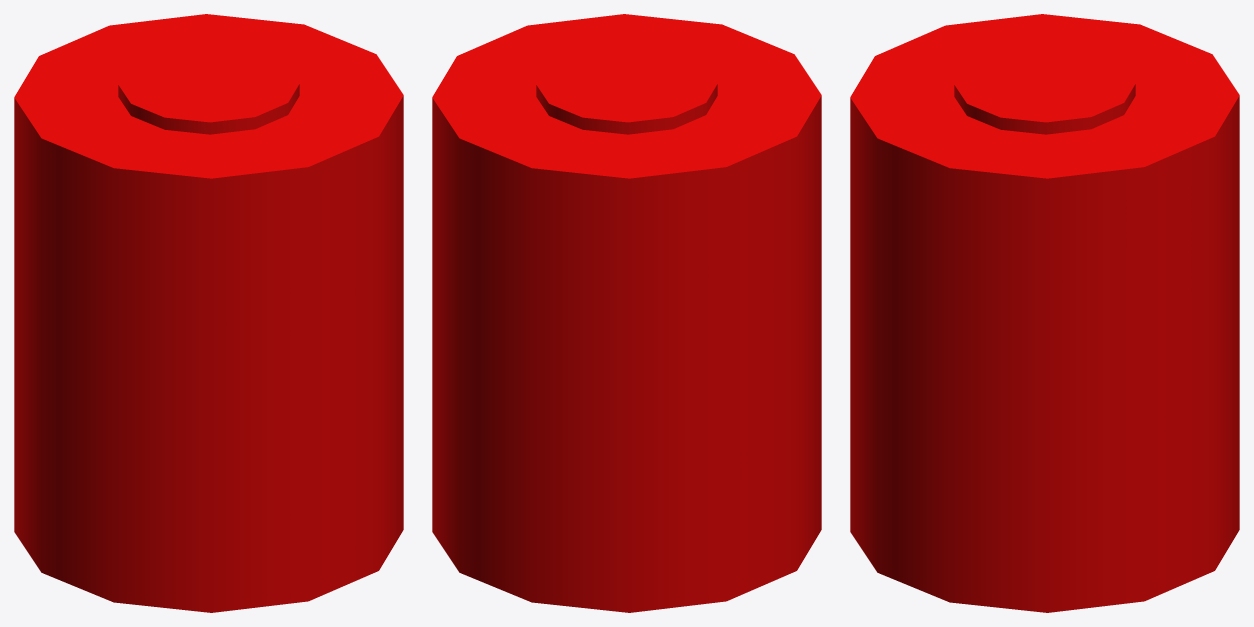
The model's file is d2c72cd0-7c73-4cde-8ec9-19f4b54ab531.glb.
3 views of the same model, side by side, from view 1: azimuth 30°, elevation 25°; view 2: azimuth 150°, elevation 25°; view 3: azimuth 270°, elevation 25° (orthographic).
Parts seen in each view (by area): view 1: 153, 153_1; view 2: 153, 153_1; view 3: 153, 153_1.
Part boxes in pixels (left/top/right/bottom): 153: left=14, top=84, right=403, bottom=612; 153_1: left=14, top=14, right=403, bottom=178; 153: left=432, top=84, right=821, bottom=612; 153_1: left=432, top=14, right=821, bottom=178; 153: left=850, top=84, right=1239, bottom=612; 153_1: left=850, top=14, right=1239, bottom=178.
Size of the model in its own units: 1.47 by 1.86 by 1.47.
